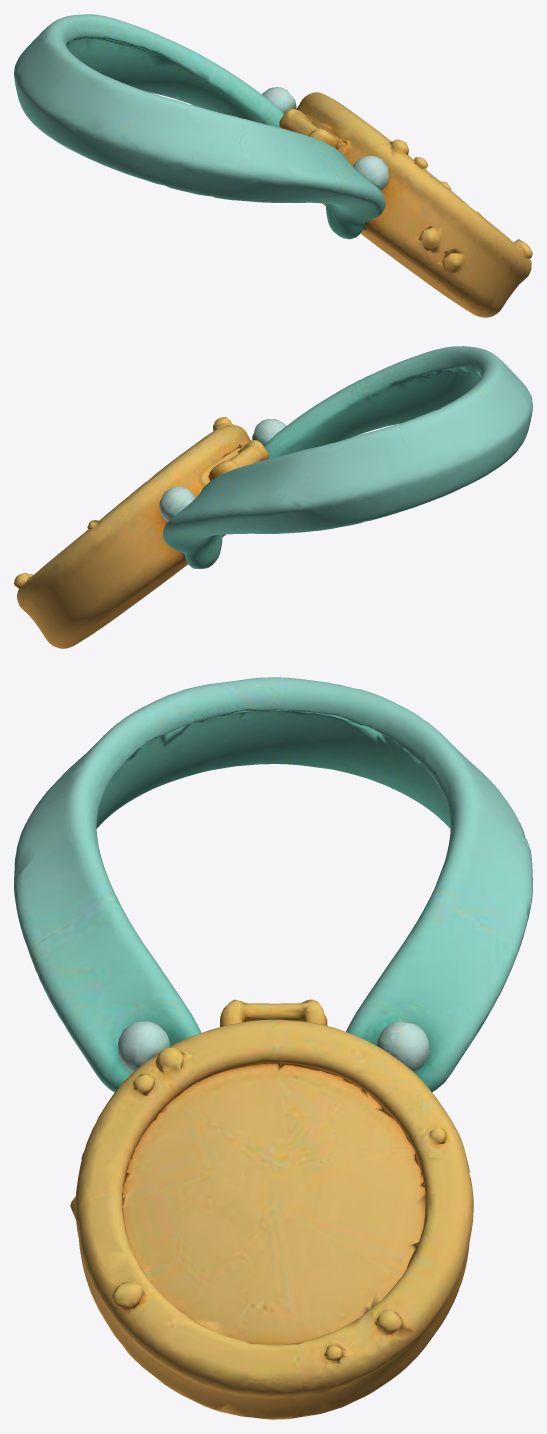
The model's file is acc_necklace_medal_01.glb.
3 renders of one model, top to bottom at view 1: azimuth 30°, elevation 25°; view 2: azimuth 150°, elevation 25°; view 3: azimuth 270°, elevation 25°, orthographic. The views are drawn at different scales.
Parts seen in each view (by area): view 1: acc_necklace_medal_01; view 2: acc_necklace_medal_01; view 3: acc_necklace_medal_01.
Boxes of the visible parts, box(x1,y1,x2,y2) form: acc_necklace_medal_01: box(14, 14, 532, 317); acc_necklace_medal_01: box(14, 346, 532, 648); acc_necklace_medal_01: box(14, 677, 532, 1419).
Size of the model in its own units: 0.26 by 0.18 by 0.1799.
1 material, 1 textured.
